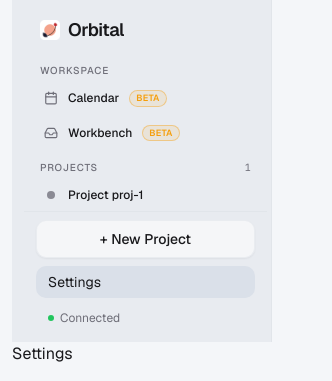
Test case: Global settings nav (settings in Route union) › selecting a project from settings navigates to the project view
Expected: the text "Settings" is shown, [12, 343, 73, 364]
Click the button "Project proj-1": (146, 195) [32, 179, 259, 211]
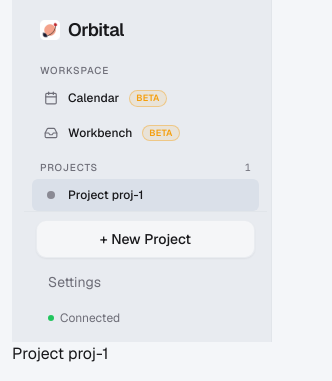
Now the text with test id "settings-view" is gone
Now the text with test id "project-view" reads "Project proj-1", box [12, 343, 108, 364]
